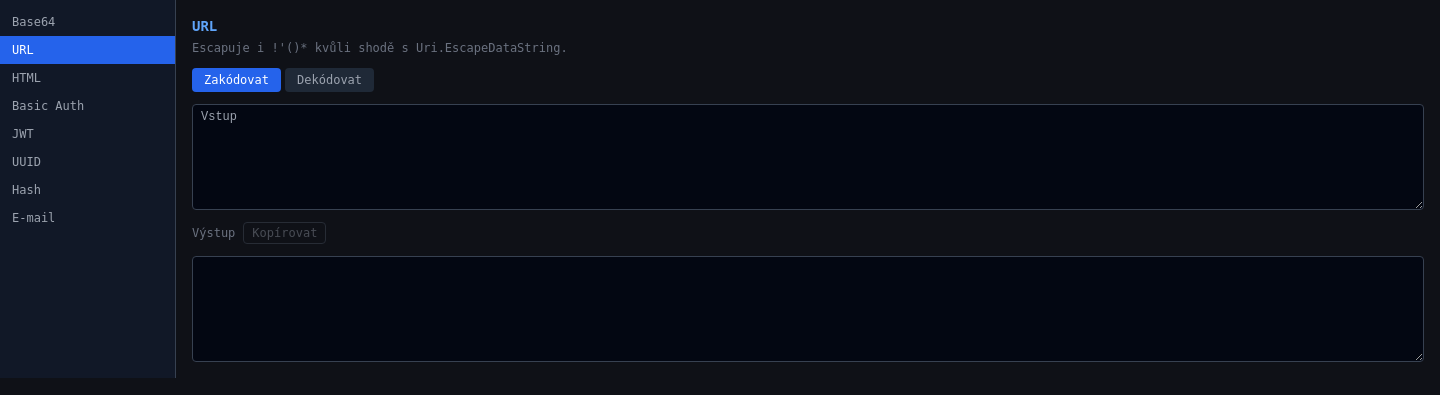
it: ToolsView › URL nástroj kóduje vstup
The image size is (1440, 395).
Type "a b&c" into the text box with placeholder "Vstup" at (808, 157), box top-left (192, 104), bottom-right (1424, 210)
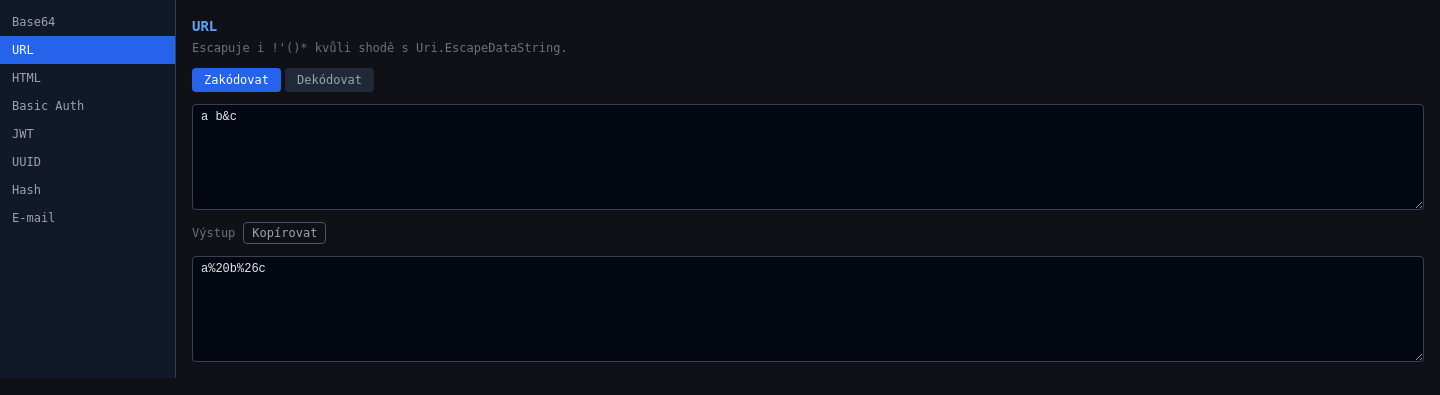
Expected: the 2nd text box holds "a%20b%26c", top-left (192, 256), bottom-right (1424, 362)
